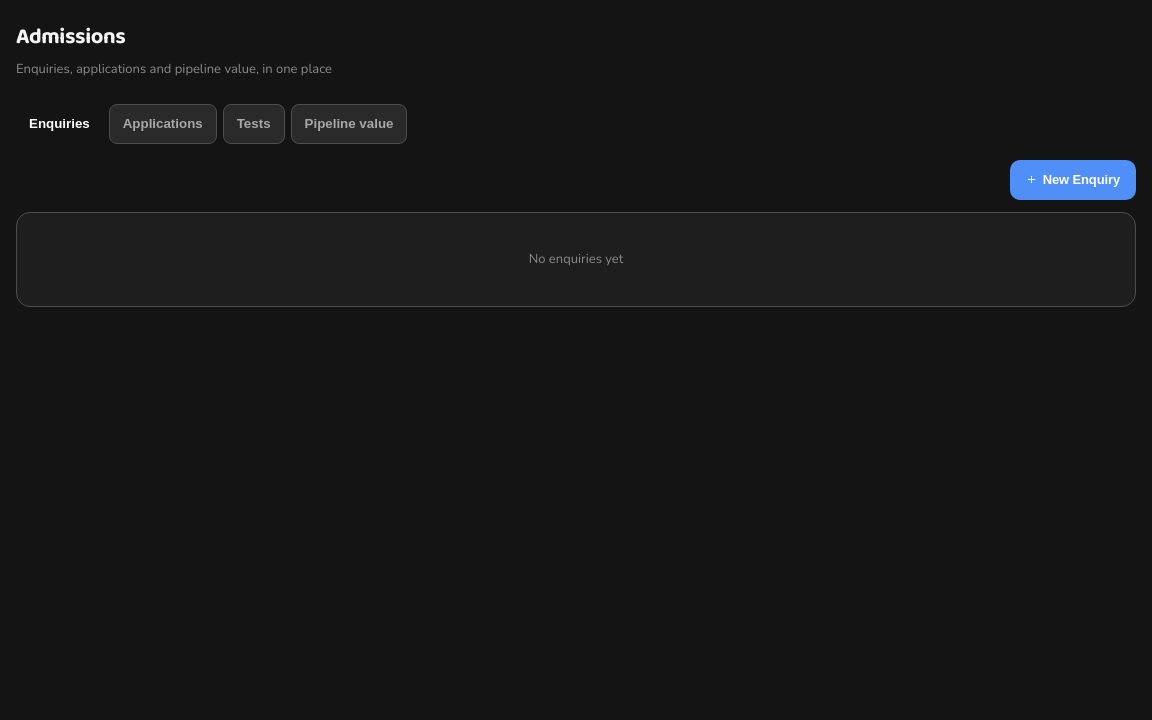
Test: nothing was dropped: the CRM lead form is reachable from the pipeline tab
The width and height of the screenshot is (1152, 720).
Step 1. Click the tab "Pipeline value" → coordinates (349, 124), box x1=290 y1=104 x2=407 y2=144
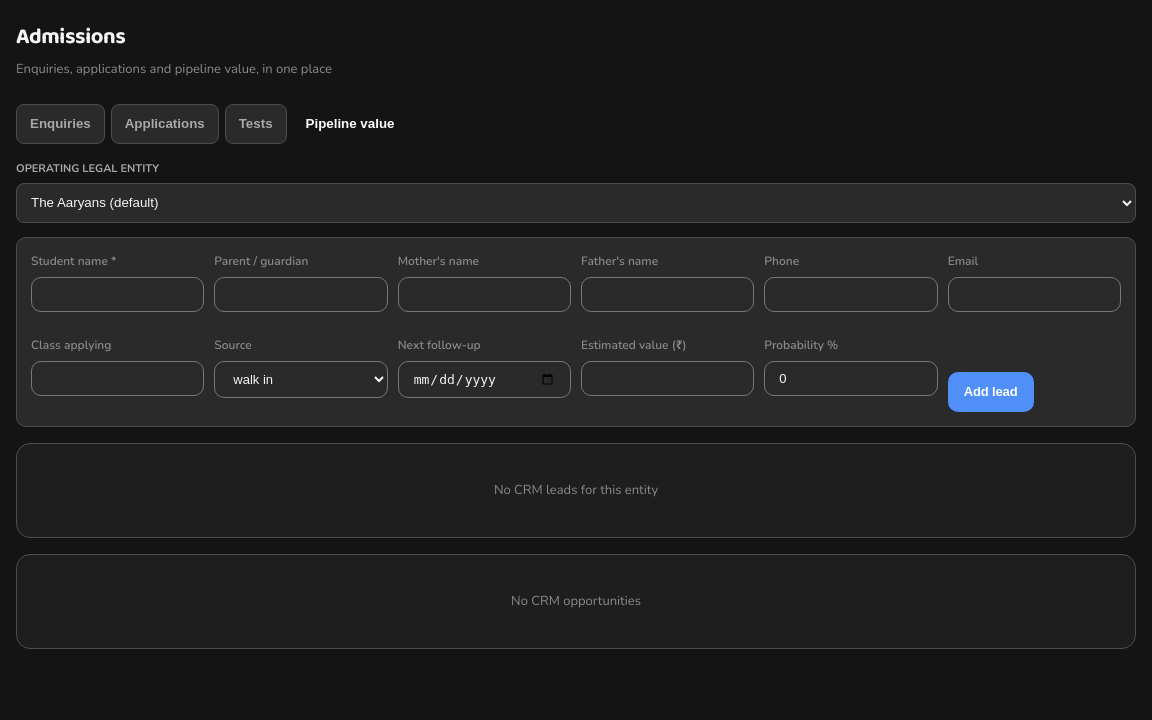
Now the form with test id "crm-lead-form" is shown, box x1=16 y1=237 x2=1136 y2=427
Now the number field labelled "Estimated value (₹)" is shown, box x1=581 y1=361 x2=754 y2=396
